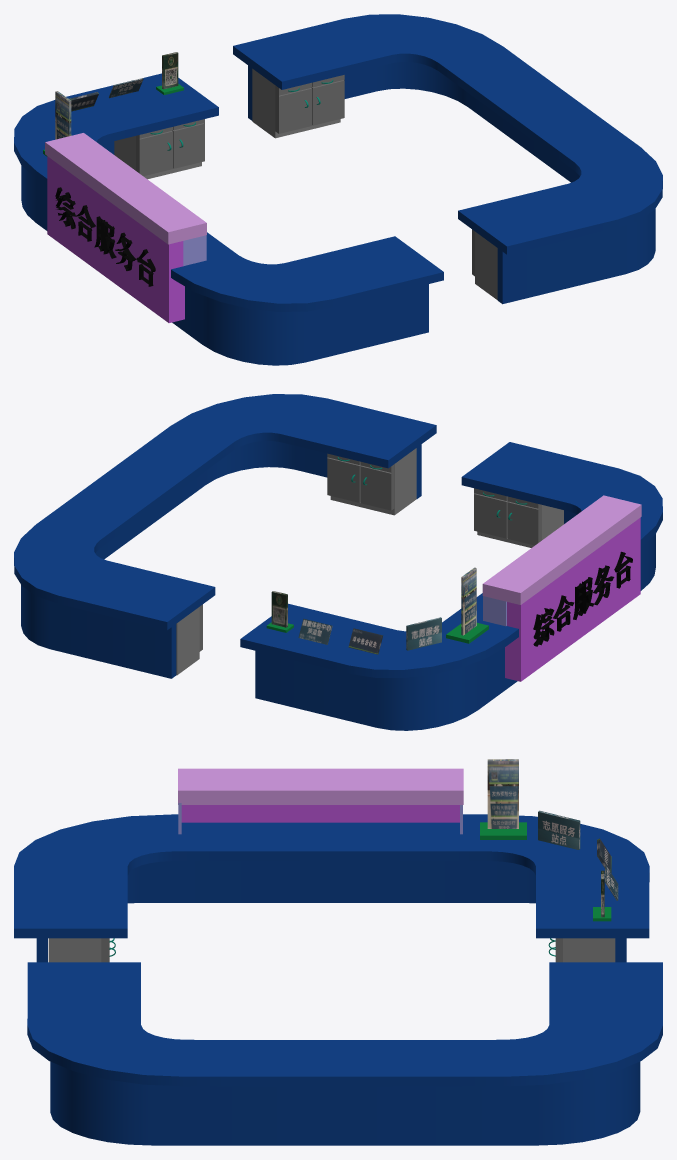
File: desk.obj
The picture shows the model from 3 angles, top to bottom: view 1: azimuth 30°, elevation 25°; view 2: azimuth 150°, elevation 25°; view 3: azimuth 270°, elevation 25°; orthographic projection. The views are drawn at different scales.
Parts seen in each view (by area): view 1: Loft002, Loft001, Rectangle001, Rectangle006, Box016, Box017, Box022, Box002, Text002, Box023, Box029, Box001 (+3 smaller); view 2: Loft002, Loft001, Rectangle001, Rectangle006, Box016, Box017, Box011, Box028, Text002, Box029, Box023, Box031 (+6 smaller); view 3: Loft002, Loft001, Rectangle006, Rectangle001, Box017, Box016, Box031, Box010, Box001, Box032, Box030.
Part boxes in pixels (left/top/right/bottom): Loft002: left=233, top=14, right=662, bottom=254; Loft001: left=14, top=73, right=443, bottom=311; Rectangle001: left=21, top=141, right=428, bottom=365; Rectangle006: left=248, top=62, right=655, bottom=304; Box016: left=47, top=156, right=184, bottom=322; Box017: left=45, top=133, right=206, bottom=244; Box022: left=275, top=75, right=344, bottom=133; Box002: left=136, top=119, right=204, bottom=176; Text002: left=55, top=187, right=155, bottom=286; Box023: left=252, top=68, right=340, bottom=138; Box029: left=475, top=231, right=497, bottom=299; Box001: left=114, top=136, right=201, bottom=179; Loft002: left=14, top=394, right=436, bottom=630; Loft001: left=240, top=442, right=662, bottom=677; Rectangle001: left=255, top=510, right=655, bottom=730; Rectangle006: left=21, top=441, right=421, bottom=678; Box016: left=505, top=517, right=640, bottom=681; Box017: left=482, top=495, right=641, bottom=604; Box011: left=474, top=488, right=541, bottom=545; Box028: left=327, top=453, right=394, bottom=510; Text002: left=533, top=551, right=632, bottom=646; Box029: left=330, top=448, right=416, bottom=515; Box023: left=176, top=607, right=199, bottom=675; Box031: left=461, top=567, right=476, bottom=635; Loft002: left=27, top=962, right=662, bottom=1086; Loft001: left=14, top=814, right=649, bottom=938; Rectangle006: left=50, top=1061, right=640, bottom=1145; Rectangle001: left=36, top=861, right=626, bottom=962; Box017: left=178, top=768, right=463, bottom=804; Box016: left=181, top=805, right=459, bottom=822; Box031: left=487, top=759, right=518, bottom=828; Box010: left=48, top=938, right=101, bottom=962; Box001: left=563, top=938, right=615, bottom=962; Box032: left=538, top=810, right=580, bottom=849; Box030: left=480, top=822, right=526, bottom=839.
Size of the model in its own units: 409 by 105 by 414.
